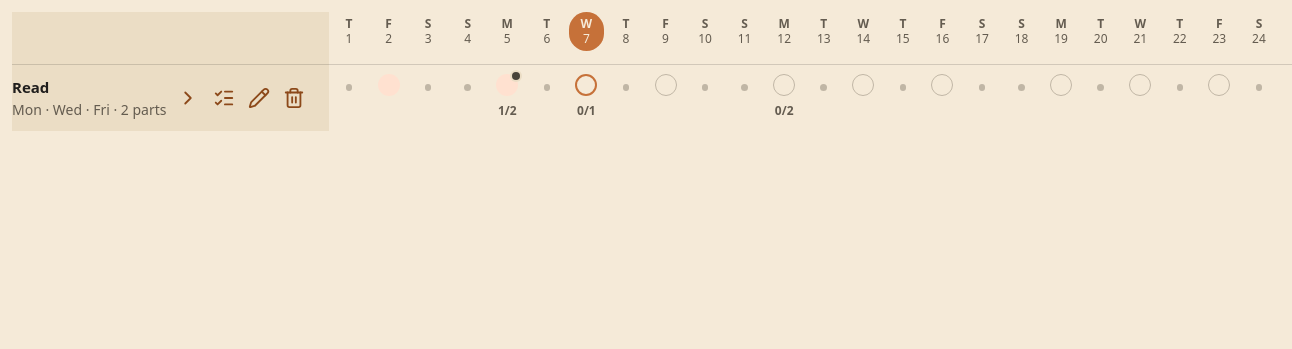
Test: HabitGrid › notes on the parts’ days › on the habit’s own cell › names the parts that have a note that day and writes the note under each name
Hover over the button named "Read, Mon 5 Oct".
mouse_move(507, 85)  # box 496,74 -> 518,96
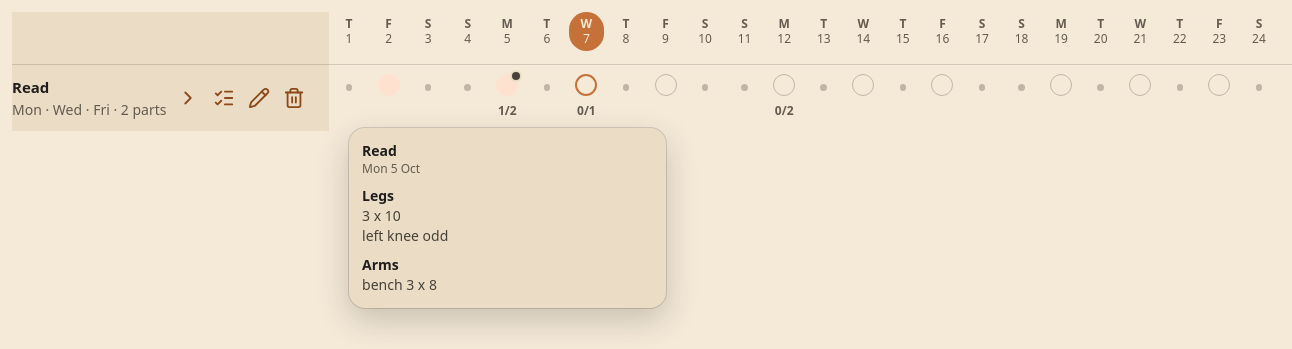
Expected: the number of list items is 2, 362,186 -> 448,245; 362,255 -> 437,294
Expected: the list item "Legs 3 x 10 left knee odd" is shown, 362,186 -> 448,245
Expected: the list item "Arms bench 3 x 8" is shown, 362,255 -> 437,294
